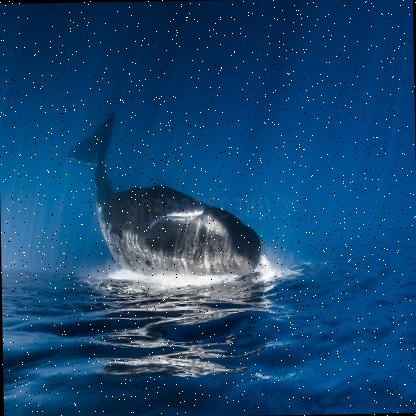sperm_whale: (45, 98, 271, 308)
